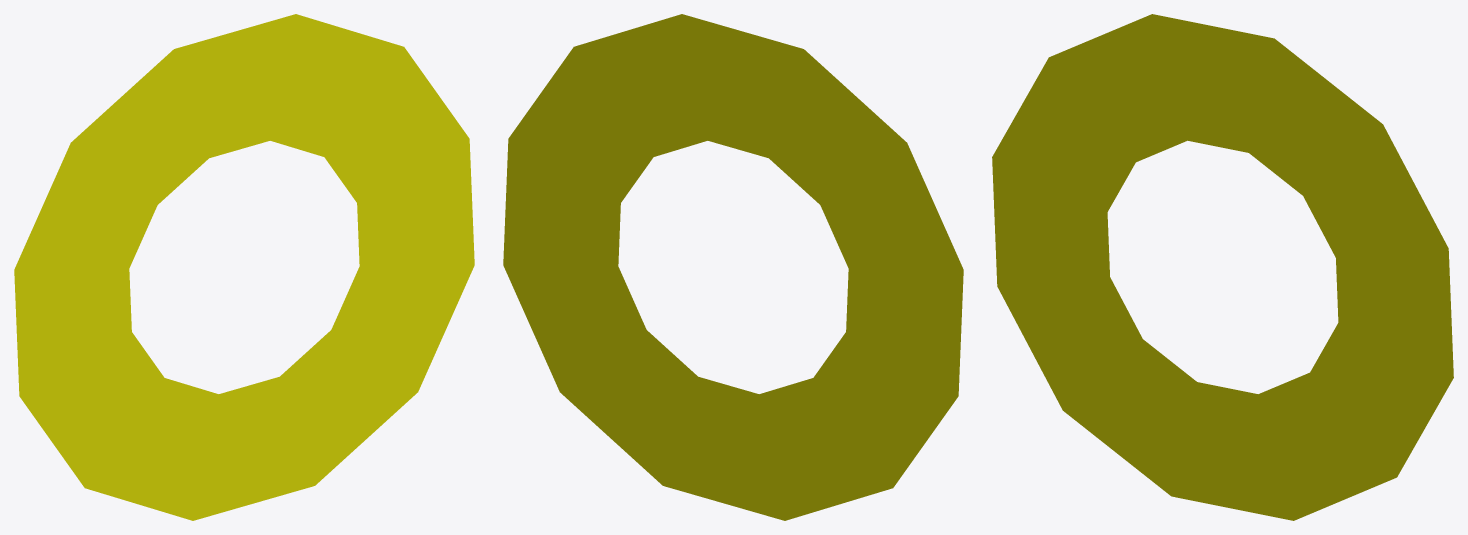
File: original-176.obj
3 views of the same model, side by side, from view 1: azimuth 30°, elevation 25°; view 2: azimuth 150°, elevation 25°; view 3: azimuth 330°, elevation 25° (orthographic).
Parts seen in each view (by area): view 1: #ID571; view 2: #ID571; view 3: #ID571.
Part boxes in pixels (x1,y1,x2,y2): #ID571: (14, 14, 474, 520); #ID571: (503, 14, 963, 520); #ID571: (992, 14, 1453, 520).
Size of the model in its own units: 0.0108 by 0.0108 by 0.
